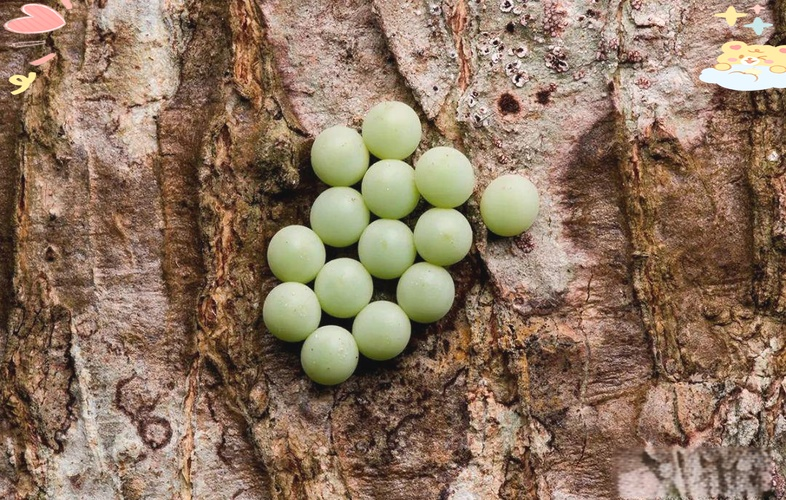Stink_Bug: (294, 85, 497, 389)
